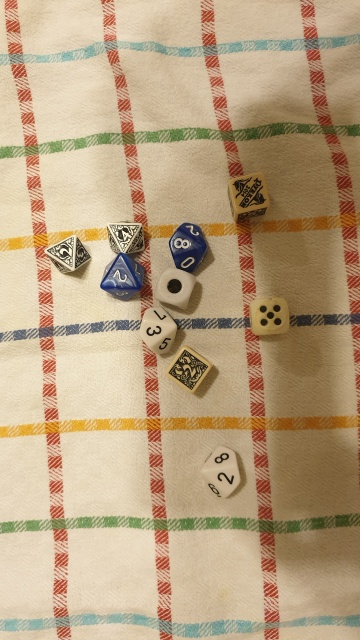d10-2: (205, 445, 247, 507), (99, 252, 141, 300)
d10-3: (132, 299, 182, 363)
d10-8: (167, 216, 210, 276)
d6-1: (156, 264, 197, 308)
d6-5: (248, 295, 294, 340)
d6p-1: (222, 167, 274, 224)
d6p-2: (164, 343, 218, 398)
d8p-2: (44, 233, 92, 276)
d8p-4: (103, 218, 151, 259)
